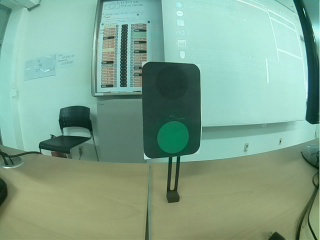green_light: (139, 63, 205, 158)
